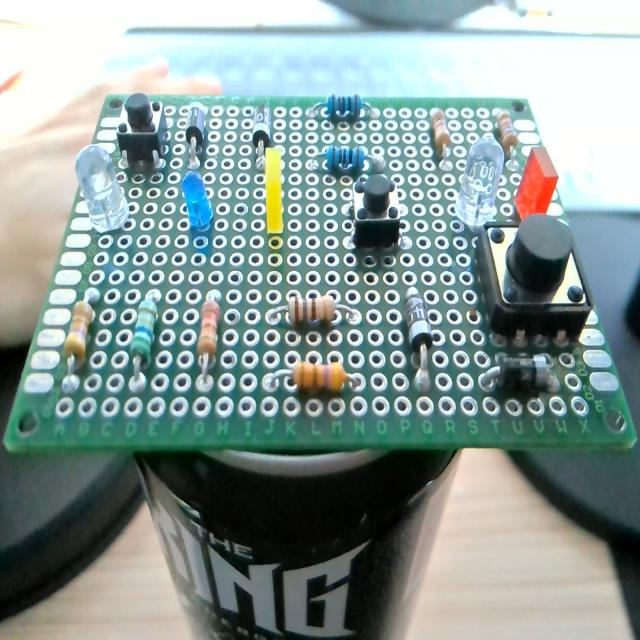diode: (405, 290, 436, 392), (482, 356, 553, 394), (252, 104, 271, 163), (186, 102, 207, 155)
led: (74, 143, 129, 234), (454, 136, 506, 228), (514, 146, 558, 222), (182, 170, 213, 230), (264, 147, 284, 237)
resistor: (268, 360, 364, 395), (270, 294, 358, 328), (130, 295, 160, 387), (64, 299, 95, 366), (197, 297, 221, 373), (429, 107, 452, 157), (325, 144, 366, 172), (495, 109, 518, 157), (328, 94, 364, 122)
switch: (475, 219, 593, 342), (350, 173, 406, 252), (116, 92, 168, 170)
